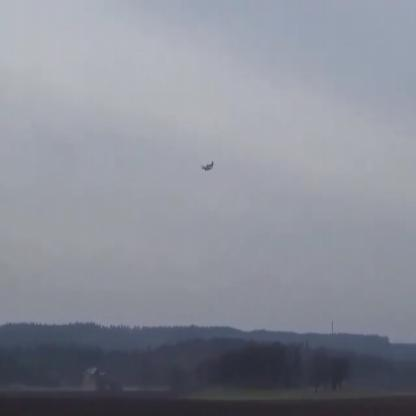CIV_Plane: (200, 162, 214, 172)
